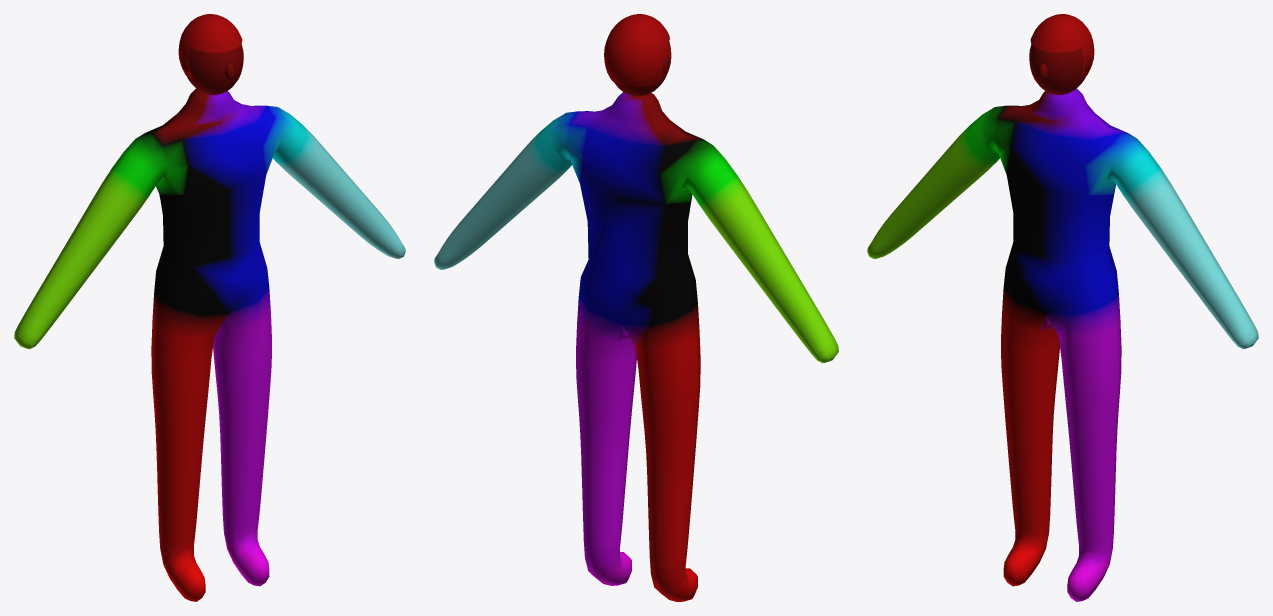
Rendered from aficionado.glb.
The picture shows the model from 3 angles, left to right: view 1: azimuth 30°, elevation 25°; view 2: azimuth 150°, elevation 25°; view 3: azimuth 330°, elevation 25°; orthographic projection. The views are drawn at different scales.
Visible parts, largest first — view 1: aficionado; view 2: aficionado; view 3: aficionado.
Part boxes in pixels (box(x1,y1,x2,y2)): aficionado: box(14, 14, 405, 601); aficionado: box(434, 14, 838, 601); aficionado: box(867, 14, 1258, 601).
Bounding box in the file's own units: 1.27 × 1.78 × 0.2291.
